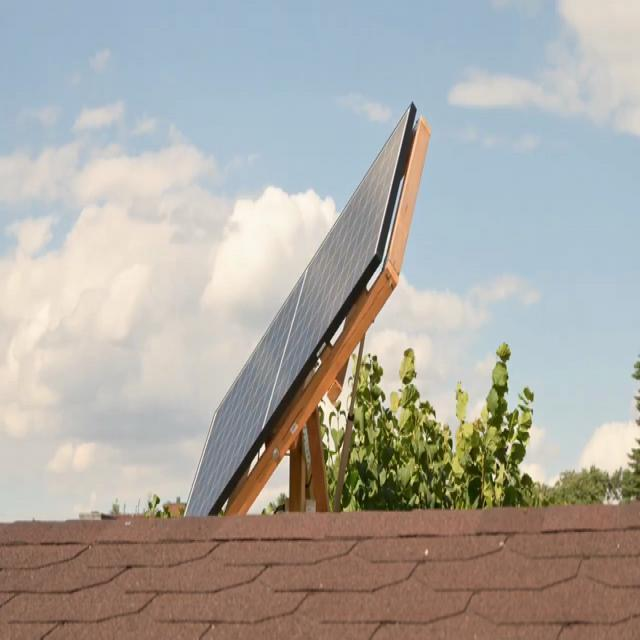Normal Solar Panel: (186, 104, 415, 516)
